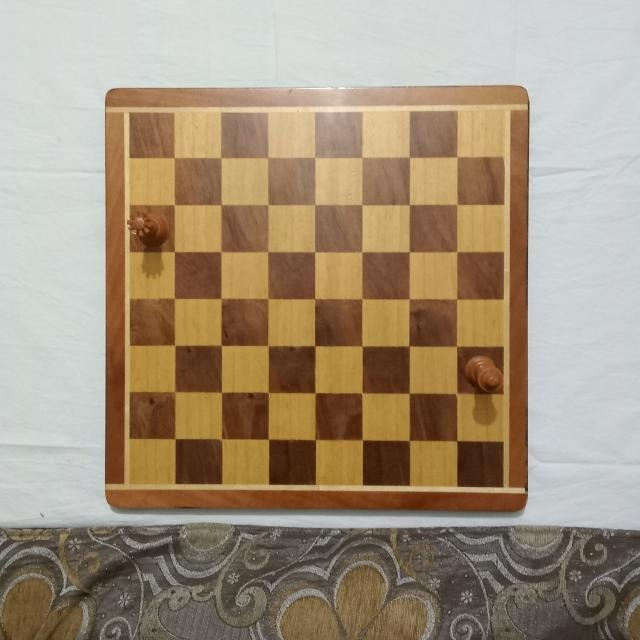white-king: (464, 353, 506, 395)
white-queen: (123, 208, 172, 247)
